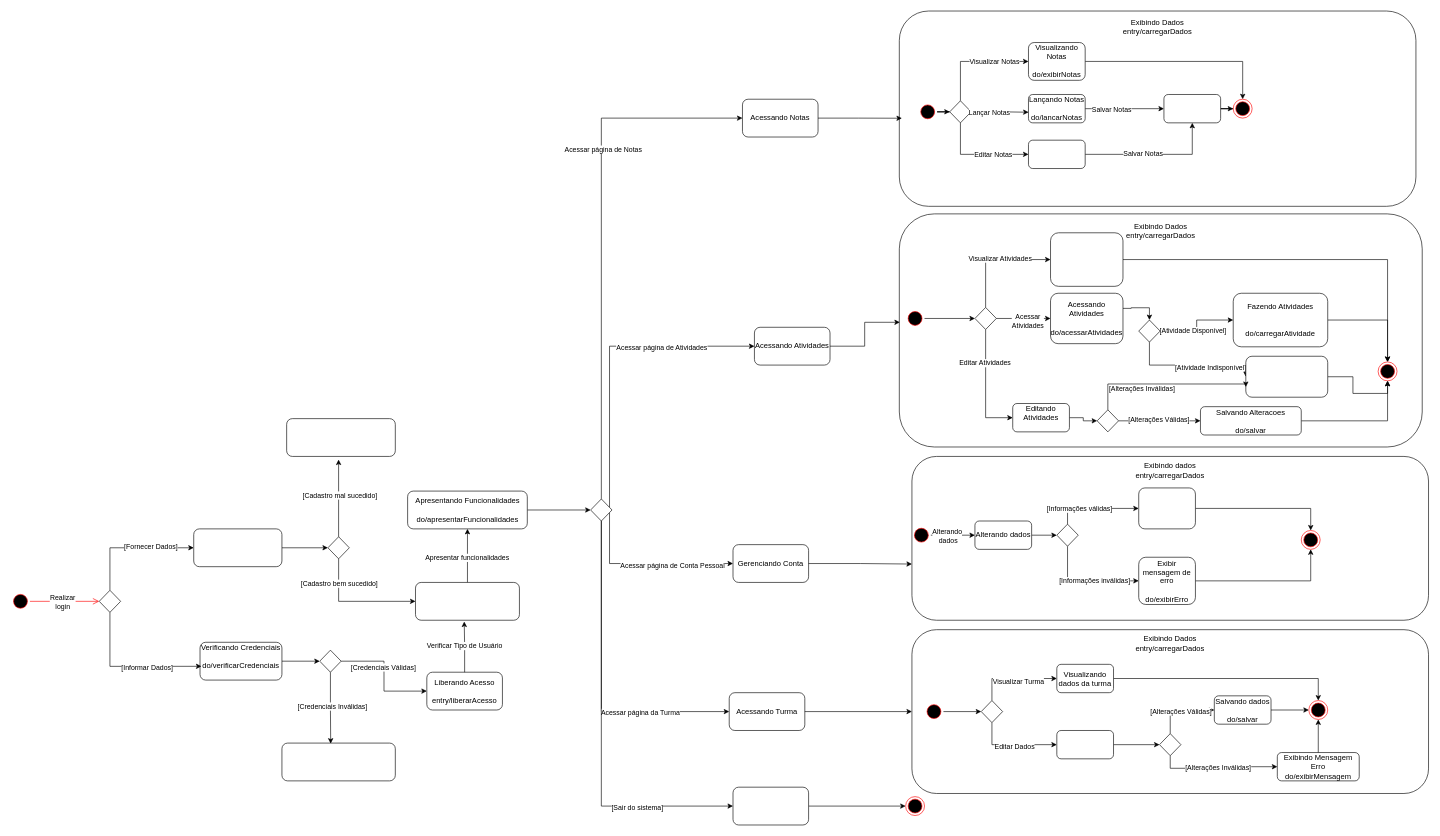
Image size: 1440x836. Some labels were removed from this diagram. The centre of each missing label's shape, as x and y in pixels:
Cadastrando Dados do/cadastrarDados: (x=237, y=547)
Editando dados da turma: (x=1085, y=744)
Editando Notas do/atualizatNotas: (x=1056, y=154)
Exibindo mensagem de erro do/exibirMensagemErro: (x=340, y=437)
Exibir Mensagem do/exibirMensagem: (x=1286, y=376)
Negando Acesso entry/InformarErroAutenticação: (x=338, y=761)
Saindo do sistema exit/sairDoSistema: (x=770, y=806)
Salvando dados exit/salvarDados: (x=1166, y=508)
Salvando notas do/salvarNotas: (x=1192, y=108)
Verificando Tipo de Usuário entry/verificarTipoUsuario: (x=467, y=601)
Visualizar Atividades do/exibirAtividades: (x=1086, y=259)
